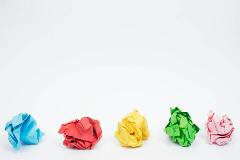paper: (5, 112, 45, 150), (58, 116, 102, 150), (164, 106, 200, 146), (114, 109, 150, 147), (204, 109, 234, 145)
